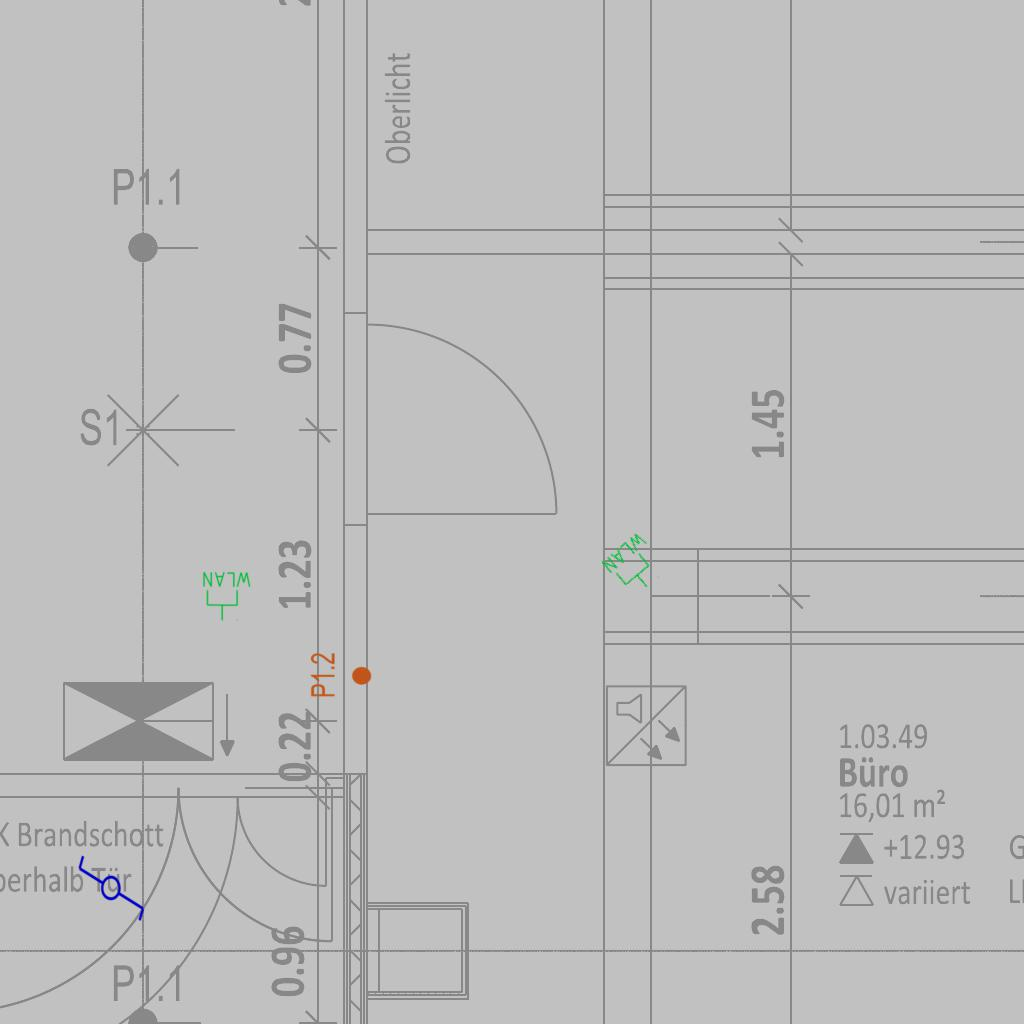Downlight_LED_Einbauleuchten_Flur: (309, 652, 373, 698)
WLAN: (598, 528, 672, 602), (201, 570, 253, 622)
Wechselschalter: (76, 845, 148, 923)
